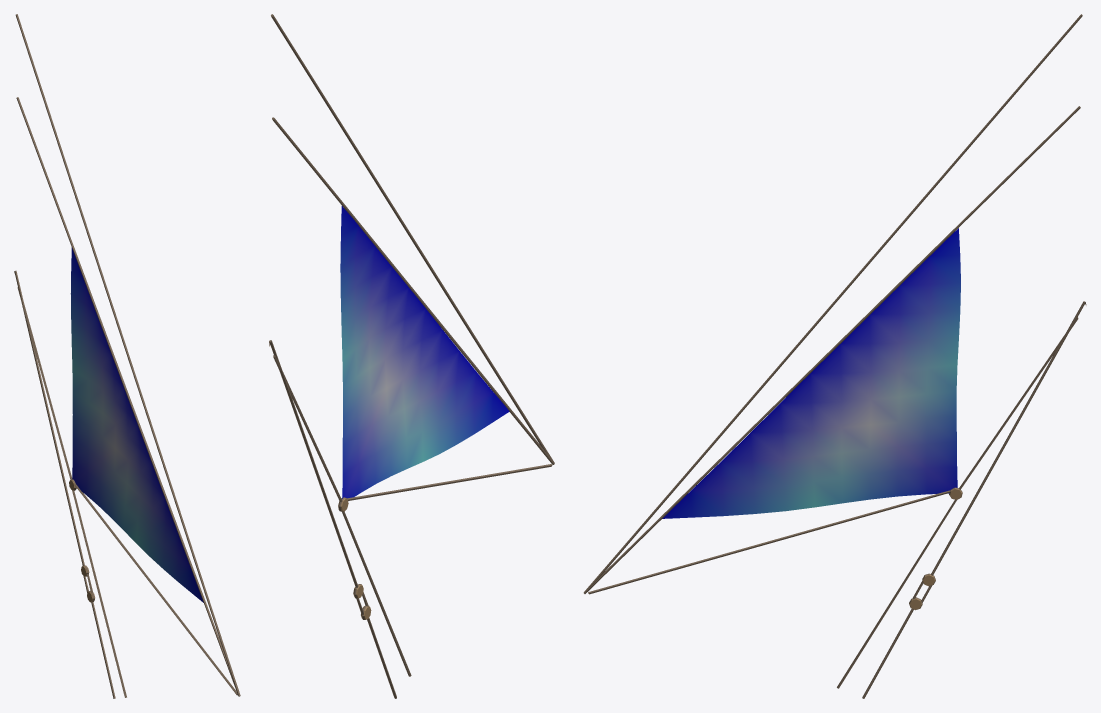
The model's file is SM_Veh_Ship_L_01_Rigging_Front_01.fbx.
3 views of the same model, side by side, from view 1: azimuth 30°, elevation 25°; view 2: azimuth 150°, elevation 25°; view 3: azimuth 270°, elevation 25° (orthographic). The views are drawn at different scales.
Visible parts, largest first — view 1: SM_Veh_Ship_L_01_Rigging_Front_01; view 2: SM_Veh_Ship_L_01_Rigging_Front_01; view 3: SM_Veh_Ship_L_01_Rigging_Front_01.
Part boxes in pixels (box(x1,y1,x2,y2)): SM_Veh_Ship_L_01_Rigging_Front_01: box(14, 14, 240, 698); SM_Veh_Ship_L_01_Rigging_Front_01: box(269, 14, 554, 698); SM_Veh_Ship_L_01_Rigging_Front_01: box(583, 14, 1086, 698).
Size of the model in its own units: 27 by 2543 by 1694.
